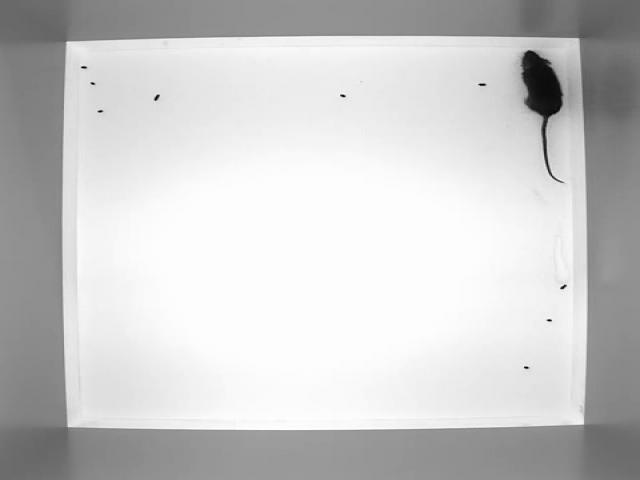Tikus: (506, 43, 574, 191)
